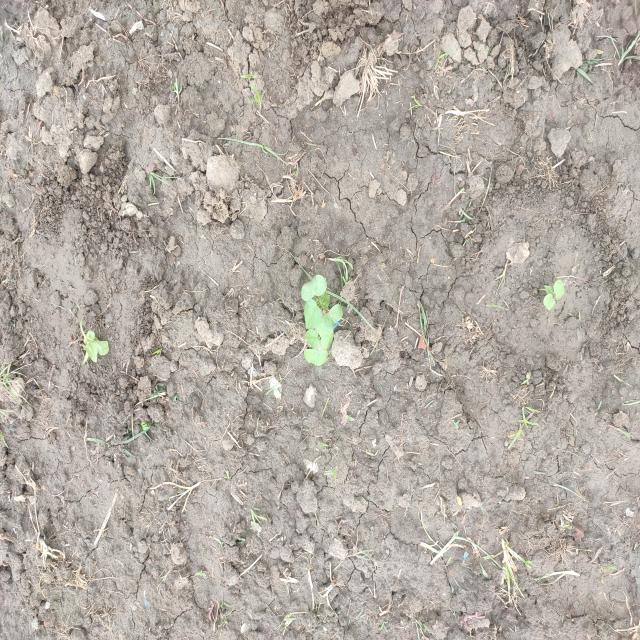seedling_s4: (301, 274, 327, 301), (321, 304, 343, 331), (304, 299, 322, 329), (316, 323, 333, 349), (304, 349, 328, 366), (304, 329, 320, 349), (85, 342, 99, 363), (94, 337, 109, 356), (553, 280, 564, 300), (318, 292, 330, 309), (543, 293, 555, 310), (544, 285, 554, 294)
